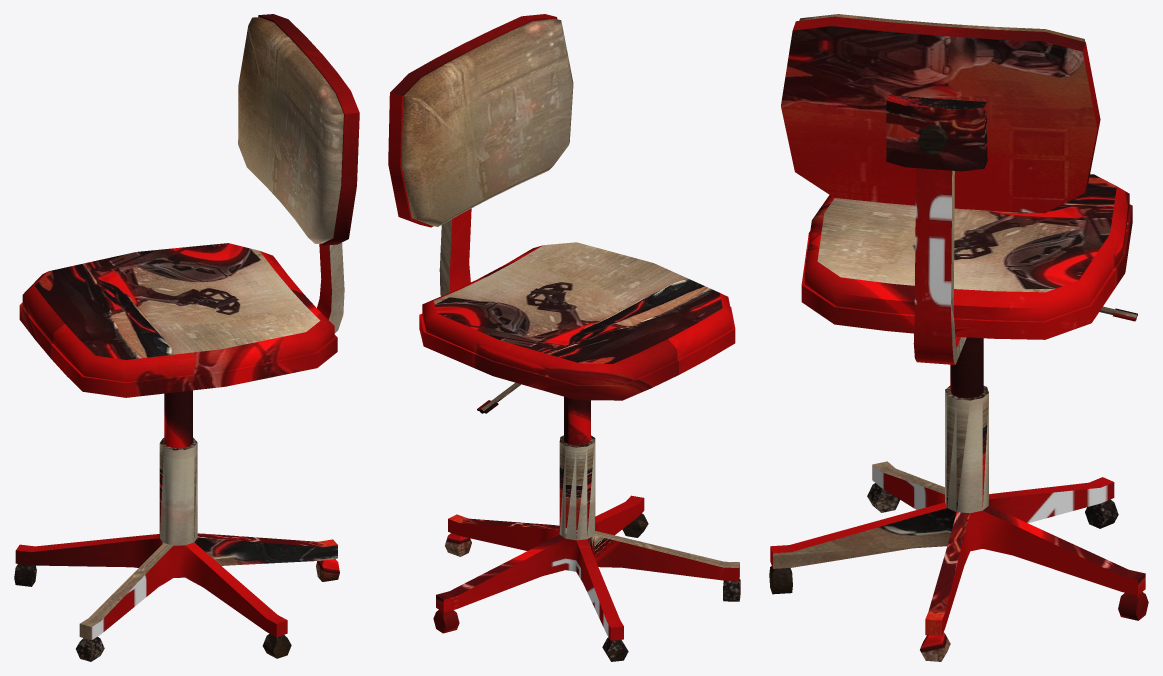
File: chair_v2.glb
3 views of the same model, side by side, from view 1: azimuth 30°, elevation 25°; view 2: azimuth 150°, elevation 25°; view 3: azimuth 270°, elevation 25° (orthographic). The views are drawn at different scales.
Parts seen in each view (by area): view 1: Chair; view 2: Chair; view 3: Chair.
Boxes of the visible parts, bbox=[...] form: Chair: bbox=[14, 14, 359, 661]; Chair: bbox=[388, 14, 740, 661]; Chair: bbox=[769, 14, 1148, 661].
Bounding box in the file's own units: 1.21 × 2.12 × 1.17.
1 material, 1 textured.
